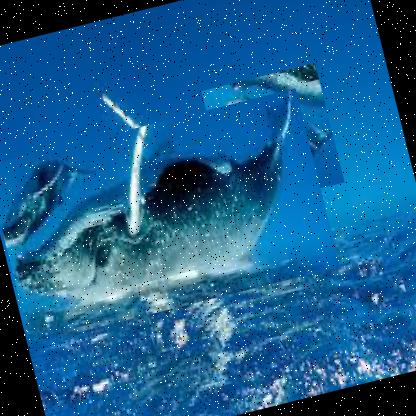blue_whale: (0, 87, 341, 345), (200, 62, 344, 210)
